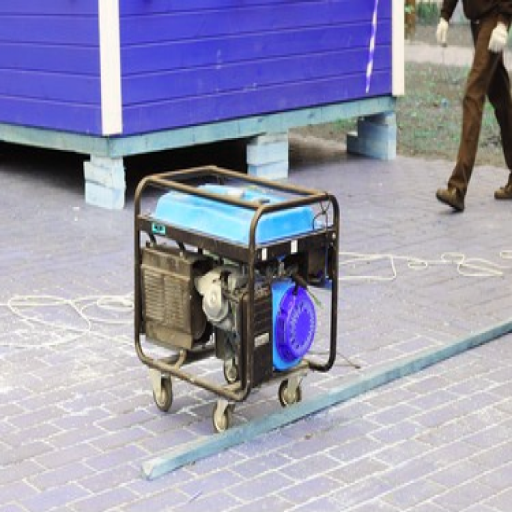portable_generator: (133, 164, 342, 404)
